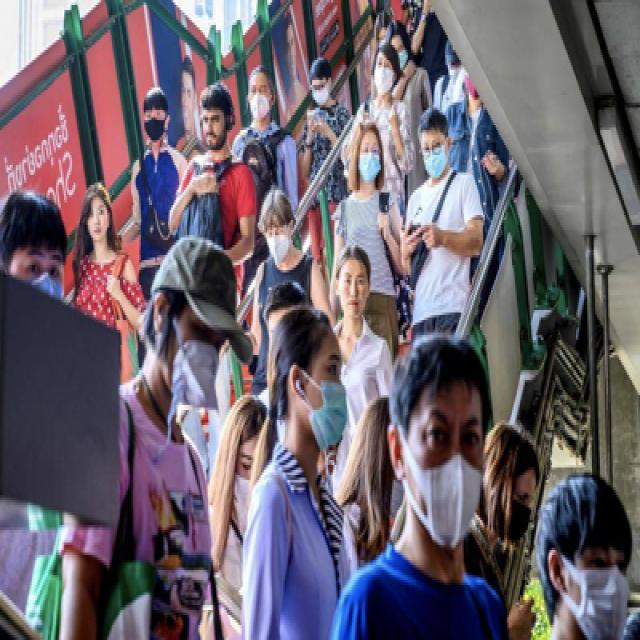with_mask: (405, 400, 488, 548), (562, 535, 630, 637), (164, 308, 230, 410), (299, 340, 349, 445), (494, 473, 540, 545), (420, 130, 450, 178), (358, 135, 381, 180), (267, 218, 291, 260), (250, 78, 274, 118), (373, 52, 397, 90), (146, 105, 168, 140), (312, 75, 331, 103)
without_mask: (340, 267, 370, 315), (203, 108, 227, 148), (86, 200, 110, 238)
